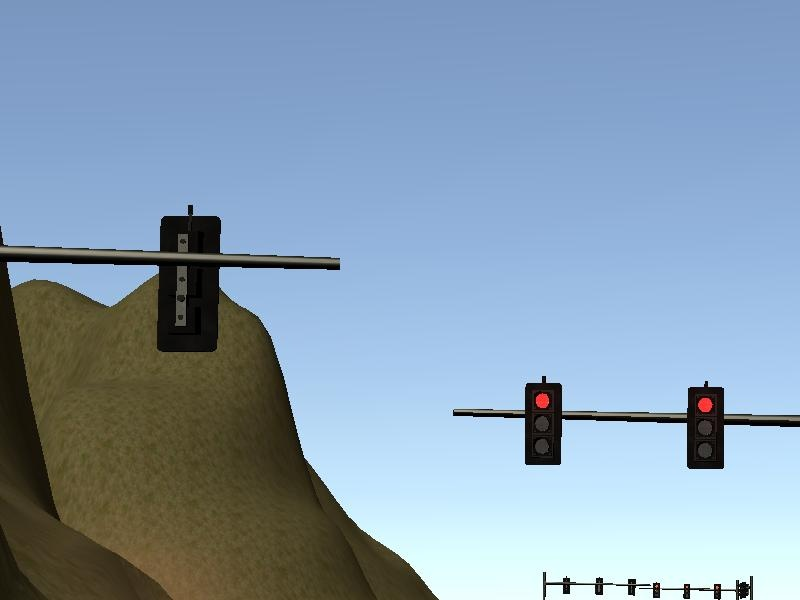RED: (523, 381, 562, 467), (686, 385, 725, 471)
